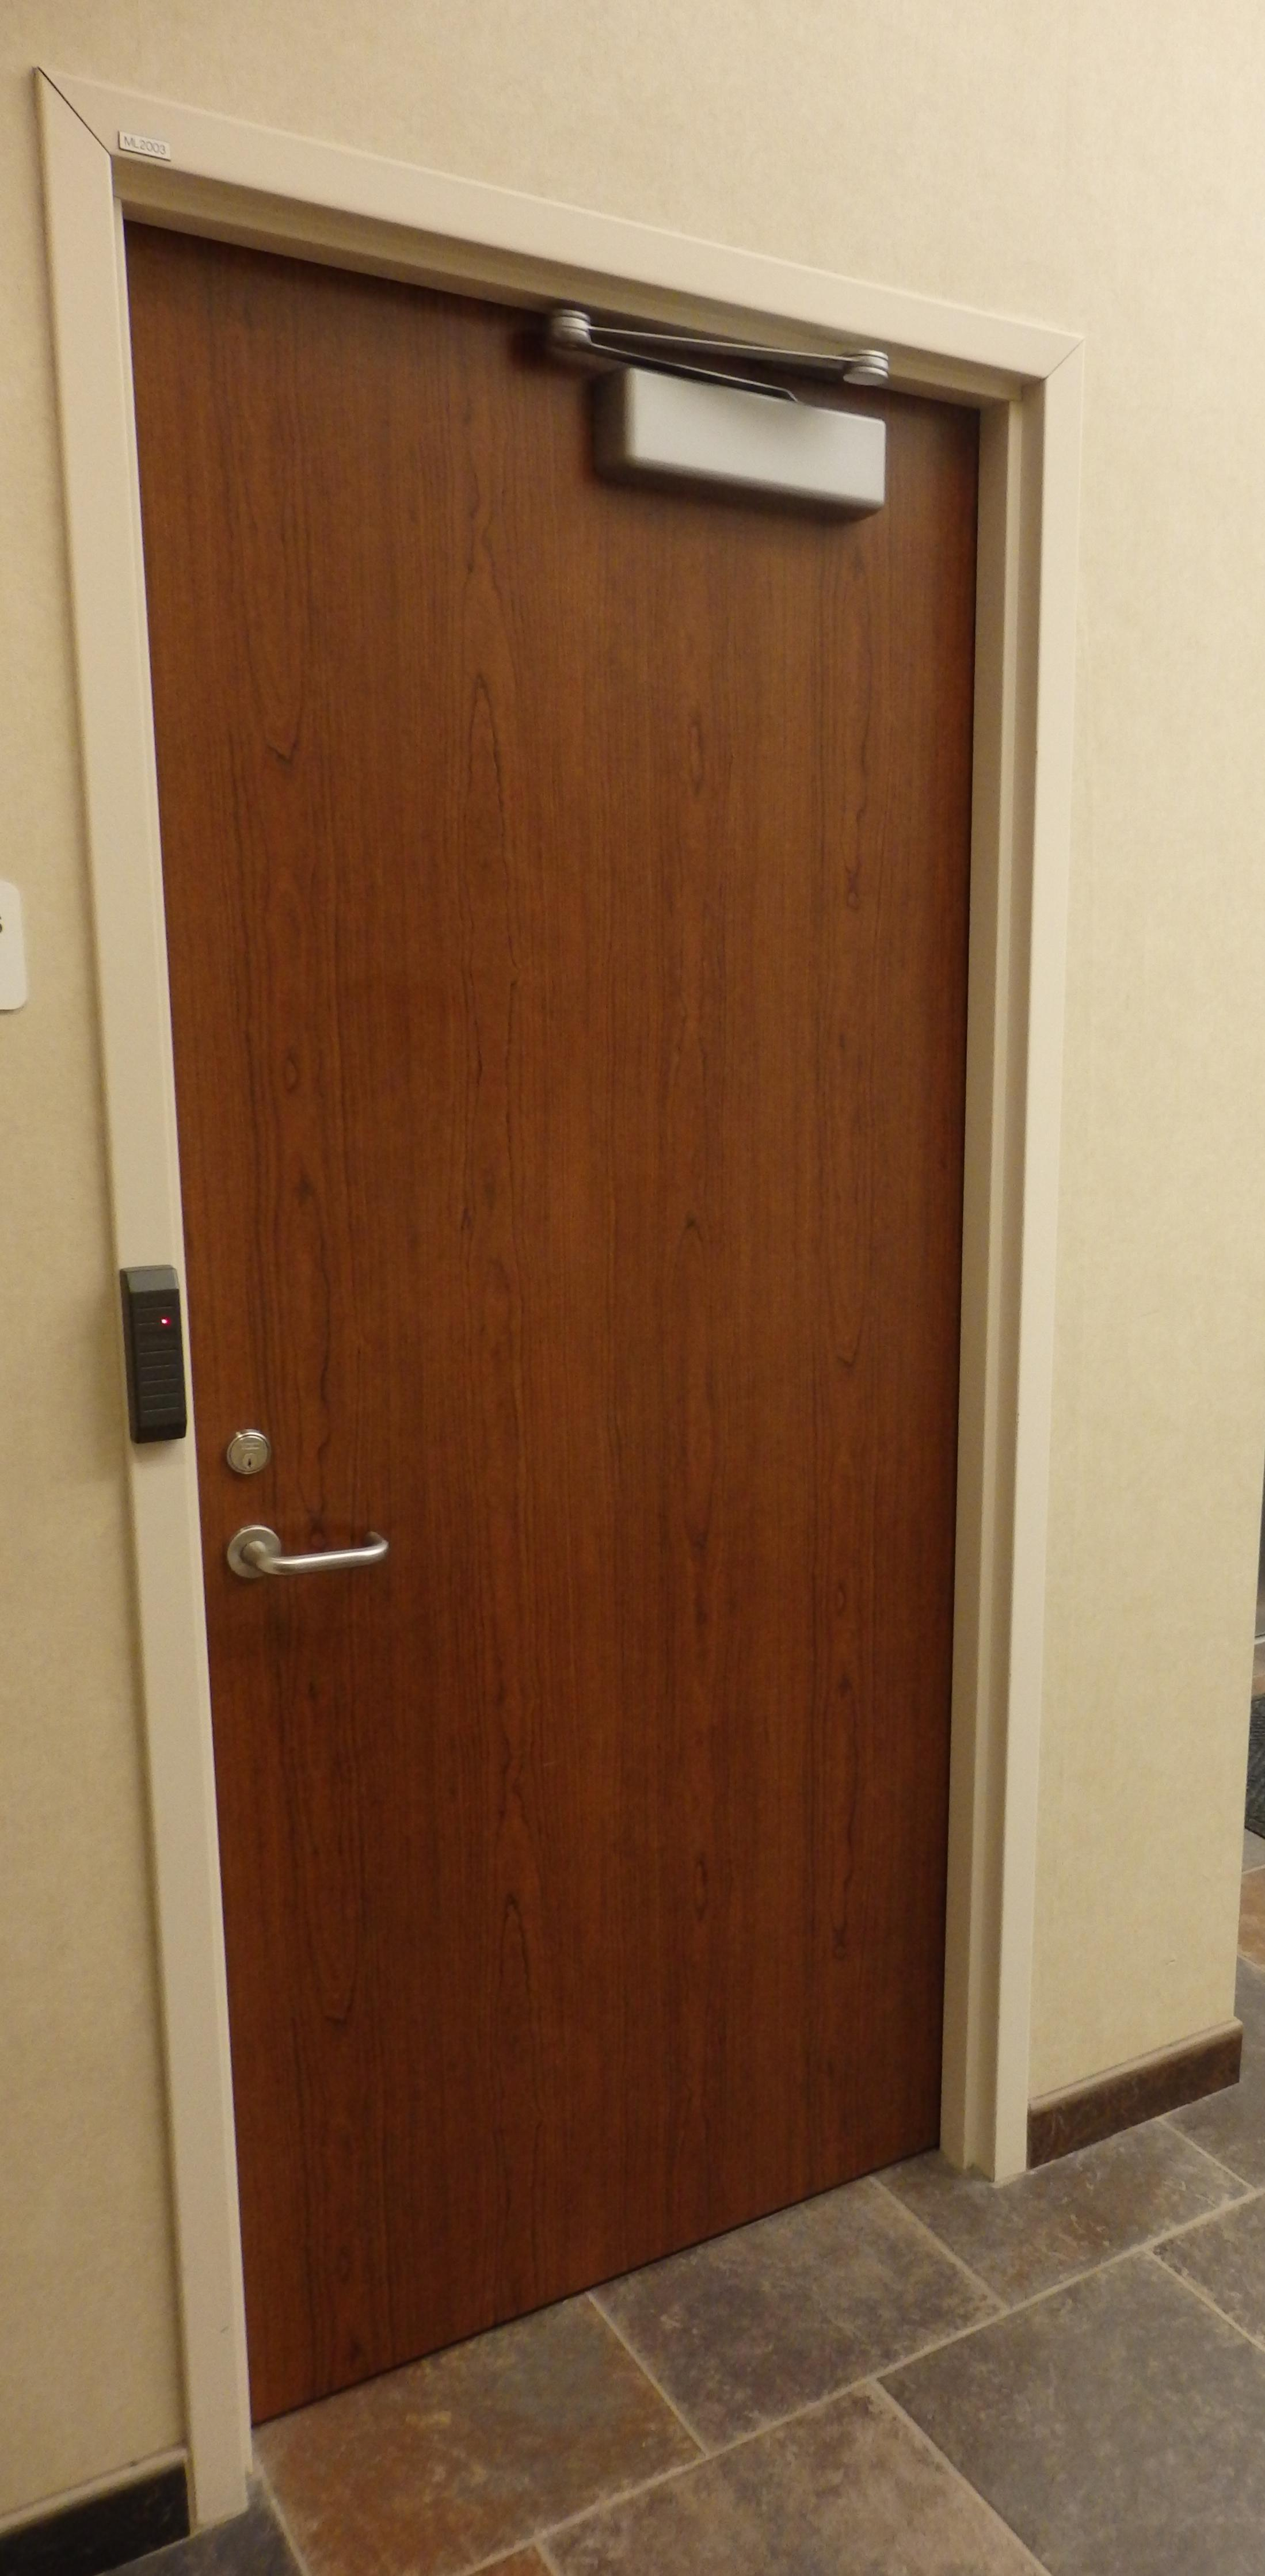door: (100, 164, 1046, 2446)
